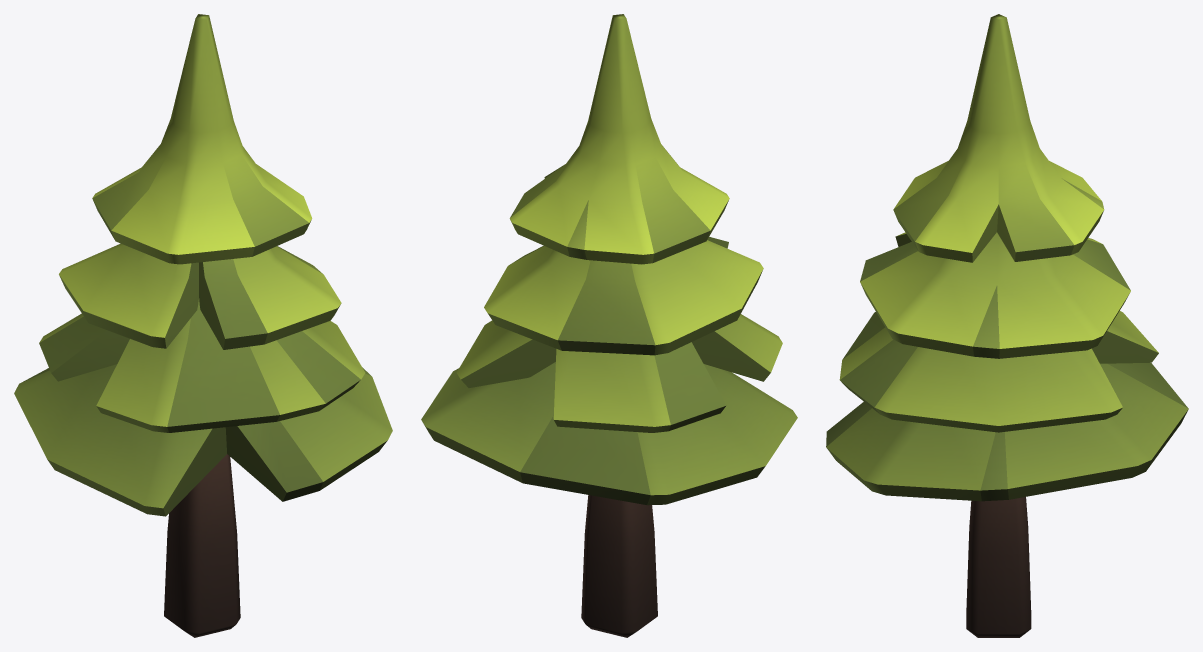
The model's file is pine_tree_col1_10.fbx.
3 views of the same model, side by side, from view 1: azimuth 30°, elevation 25°; view 2: azimuth 150°, elevation 25°; view 3: azimuth 270°, elevation 25° (orthographic).
Parts seen in each view (by area): view 1: pine_tree_col1_10; view 2: pine_tree_col1_10; view 3: pine_tree_col1_10.
Boxes of the visible parts, left/top/right/bottom form: pine_tree_col1_10: left=14, top=14, right=392, bottom=637; pine_tree_col1_10: left=421, top=14, right=797, bottom=637; pine_tree_col1_10: left=826, top=14, right=1188, bottom=637.
Size of the model in its own units: 349 by 649 by 349.
Materials: 1 (1 with a texture image).
